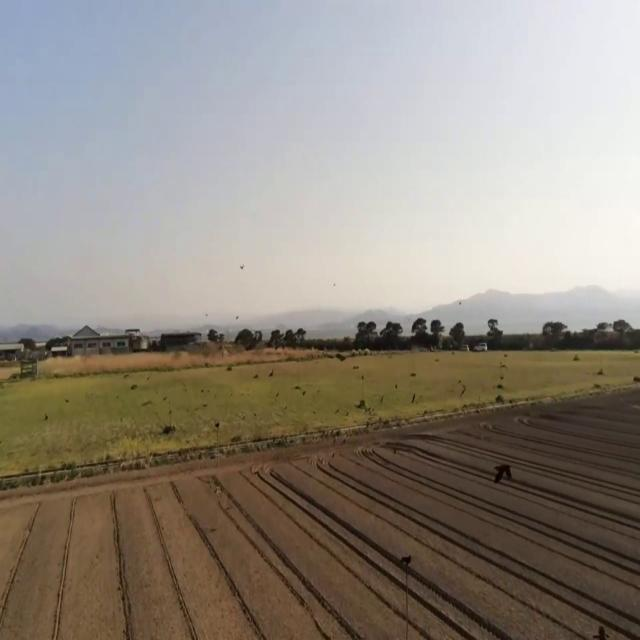bird: (494, 454, 514, 491), (240, 260, 245, 276)
